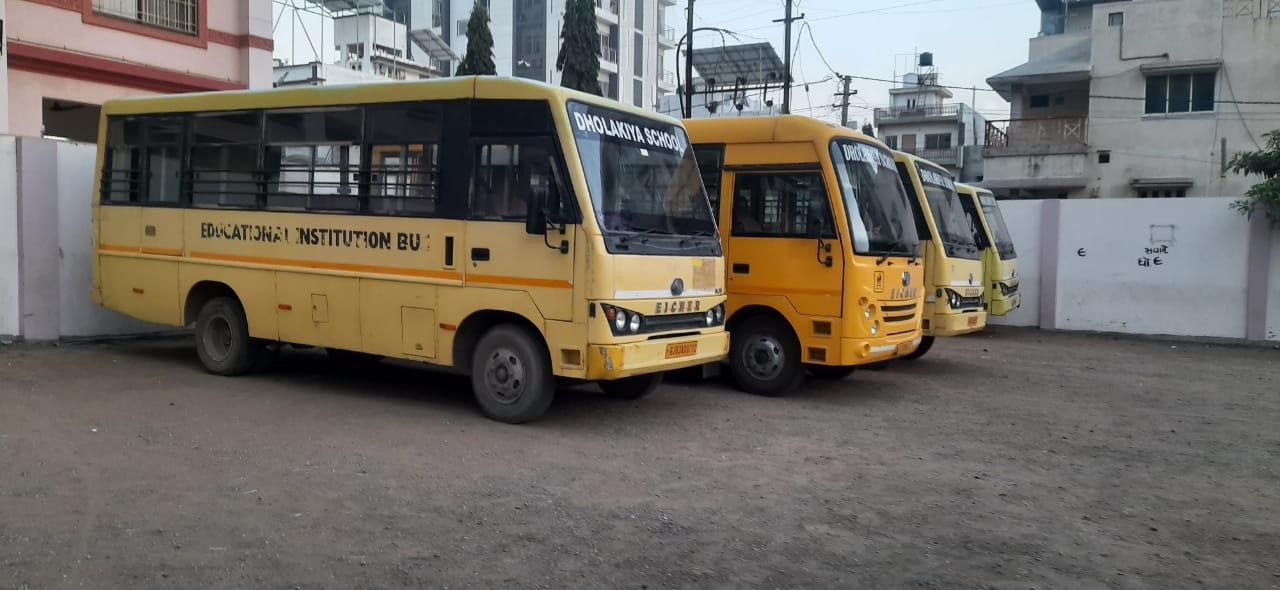Bus: (90, 70, 728, 421), (708, 109, 927, 388), (895, 146, 989, 373), (970, 182, 1034, 333)
